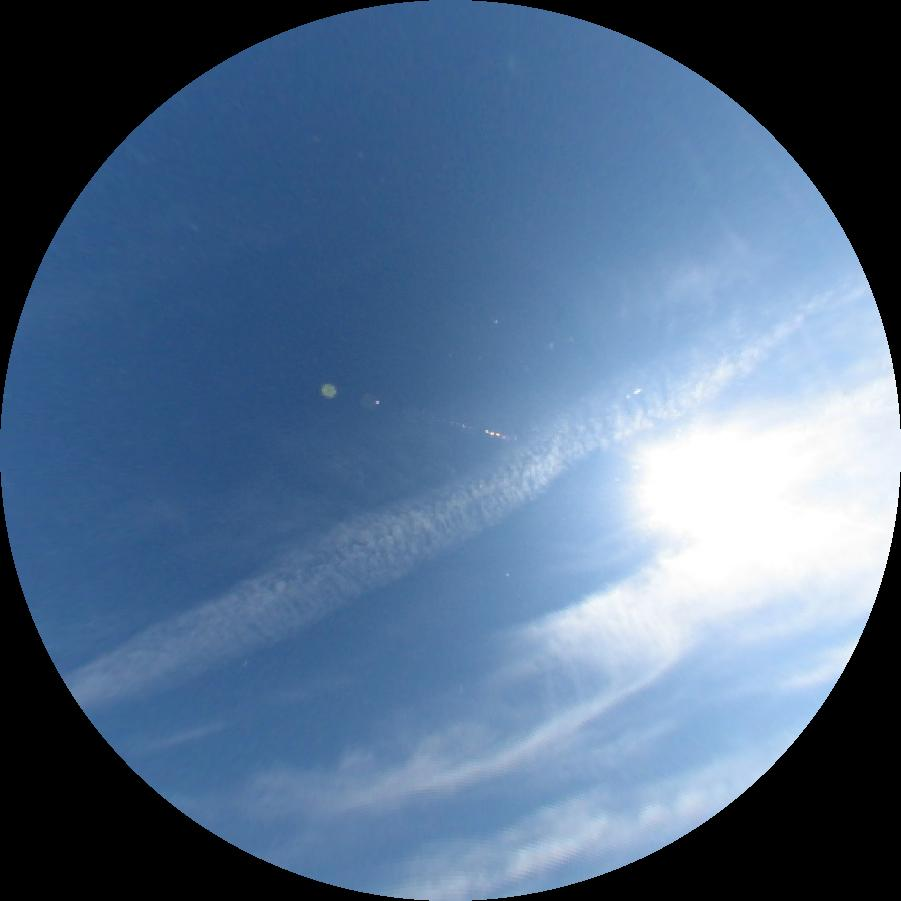contrail veryold: (61, 255, 869, 715), (255, 371, 898, 815), (362, 731, 800, 901)
sun: (652, 450, 768, 523)
